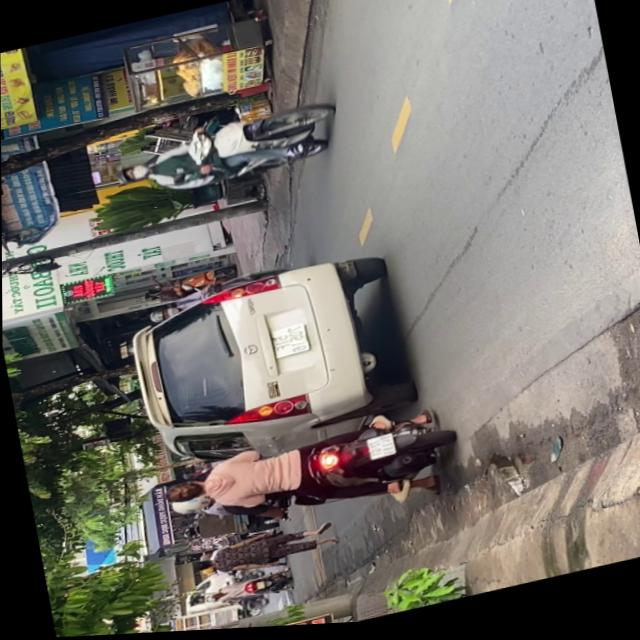helmet: (166, 494, 210, 518), (112, 160, 152, 186)
licenseplate: (154, 401, 460, 550), (107, 95, 341, 208)
motorcyclist: (160, 476, 208, 507)
nohelmet: (364, 435, 395, 463)
